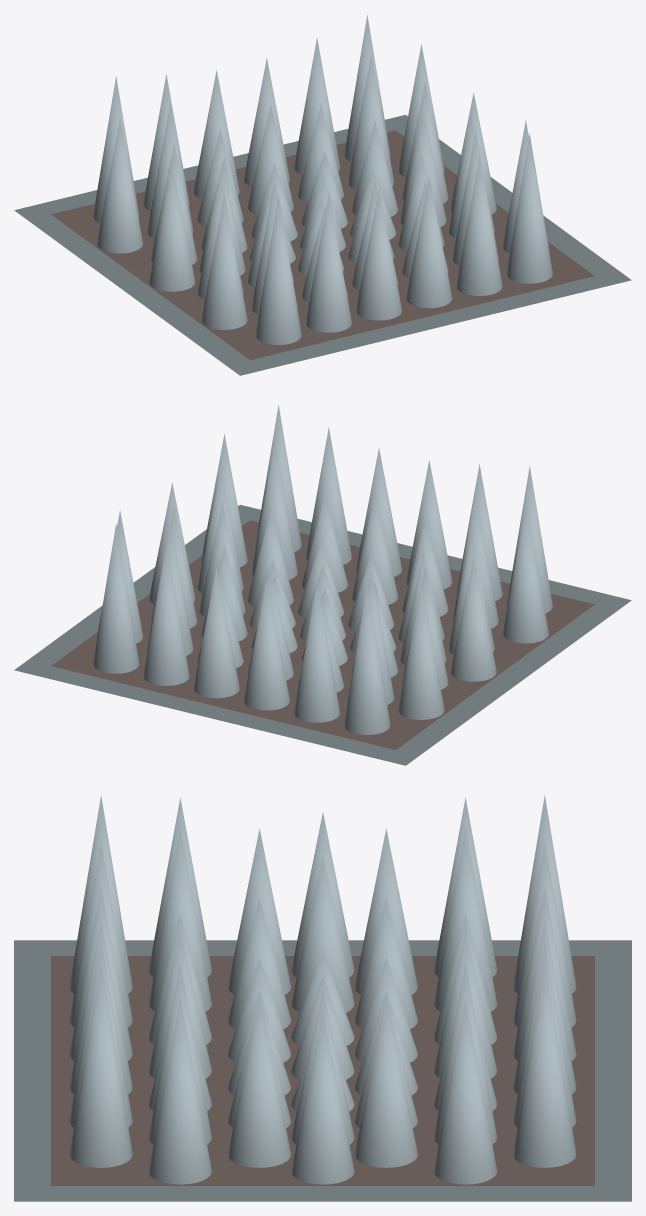
The model's file is espina_sin_pared.fbx.
3 renders of one model, top to bottom at view 1: azimuth 30°, elevation 25°; view 2: azimuth 150°, elevation 25°; view 3: azimuth 270°, elevation 25°, orthographic. The views are drawn at different scales.
Parts seen in each view (by area): view 1: tileSpikes_large; view 2: tileSpikes_large; view 3: tileSpikes_large.
Part boxes in pixels (bbox=[...]): tileSpikes_large: bbox=[14, 15, 631, 375]; tileSpikes_large: bbox=[14, 405, 631, 765]; tileSpikes_large: bbox=[14, 795, 631, 1201].
Bounding box in the file's own units: 3.9 × 1.34 × 3.9.
